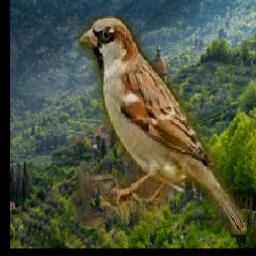Sparrow: (80, 16, 248, 235)
